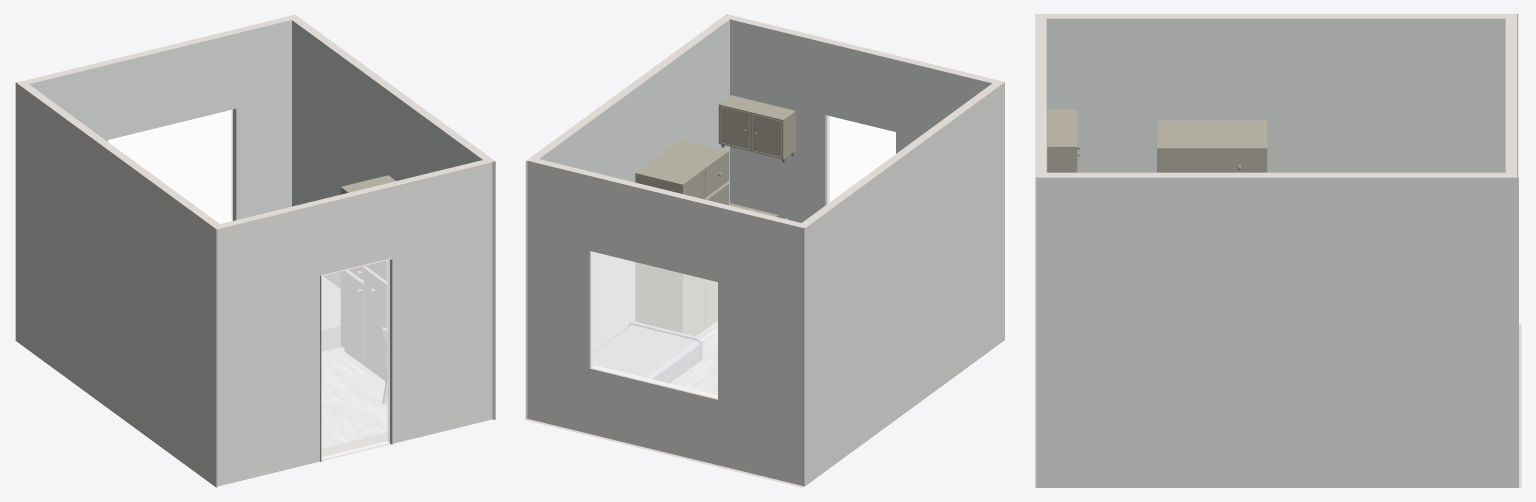
Rendered from 2bedflat.glb.
3 renders of one model, left to right at view 1: azimuth 30°, elevation 25°; view 2: azimuth 150°, elevation 25°; view 3: azimuth 270°, elevation 25°, orthographic. The views are drawn at different scales.
Visible parts, largest first — view 1: wall_1.001, wall_0.001, wall_3, wall_2, door_0, door_0.001, window_0, window_0.001, floor_Bedroom_0, storage3.001, wall_1.004, wall_0.002 (+6 smaller); view 2: wall_3.001, wall_0.001, wall_1, wall_2, window_0, window_0.001, storage3.001, bed0, storage2.002, door_0, door_0.001, wall_0.002 (+9 smaller); view 3: wall_2.001, wall_0, storage3, wall_2.002, wall_0.002, storage2, wall_1.002, wall_3.002, wall_1.004.
Part boxes in pixels (box(x1,y1,x2,y2)): wall_1.001: box(217, 162, 492, 486); wall_0.001: box(15, 82, 216, 487); wall_3: box(29, 20, 291, 219); wall_2: box(292, 20, 482, 288); door_0: box(321, 260, 389, 459); door_0.001: box(321, 260, 389, 459); window_0: box(108, 110, 232, 223); window_0.001: box(108, 110, 232, 223); floor_Bedroom_0: box(321, 347, 387, 448); storage3.001: box(340, 175, 395, 380); wall_1.004: box(216, 161, 495, 487); wall_0.002: box(17, 83, 221, 229); wall_3.001: box(527, 161, 804, 485); wall_0.001: box(804, 82, 1004, 486); wall_1: box(730, 19, 991, 222); wall_2: box(539, 19, 729, 350); window_0: box(591, 251, 717, 398); window_0.001: box(591, 251, 717, 398); storage3.001: box(635, 139, 728, 336); bed0: box(594, 322, 702, 383); storage2.002: box(718, 95, 795, 162); door_0: box(827, 116, 895, 203); door_0.001: box(827, 116, 895, 203); wall_0.002: box(801, 81, 1004, 227); wall_2.001: box(1037, 177, 1518, 487); wall_0: box(1046, 18, 1505, 172); storage3: box(1157, 120, 1267, 172); wall_2.002: box(1036, 172, 1517, 177); wall_0.002: box(1034, 14, 1515, 18); storage2: box(1047, 109, 1079, 172); wall_1.002: box(1035, 14, 1046, 177); wall_3.002: box(1505, 14, 1516, 176); wall_1.004: box(1035, 176, 1037, 487).
Bounding box in the file's own units: 3.47 × 3.07 × 4.37.
